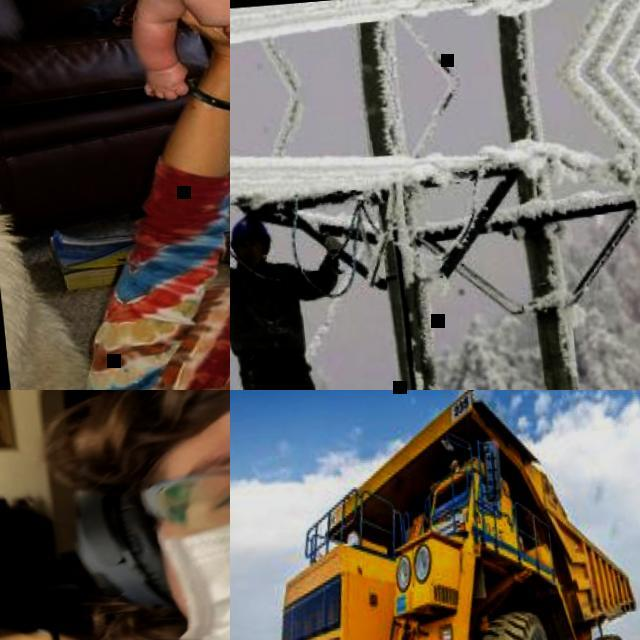helmet: (230, 213, 272, 249)
